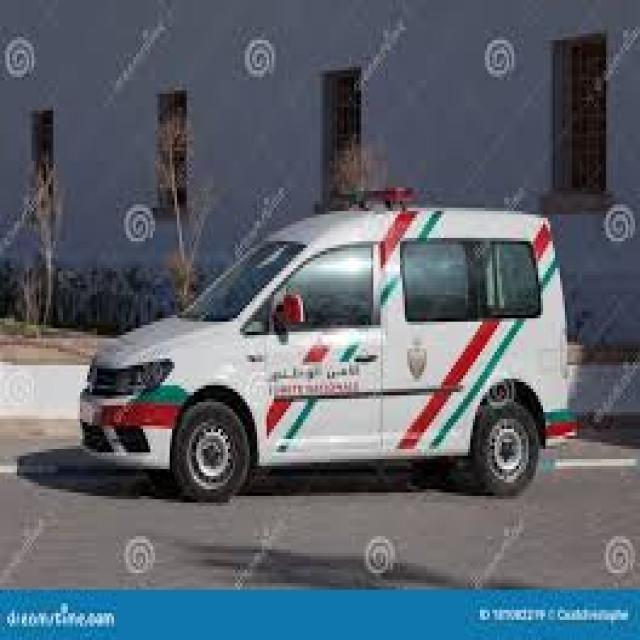police: (80, 184, 574, 504)
